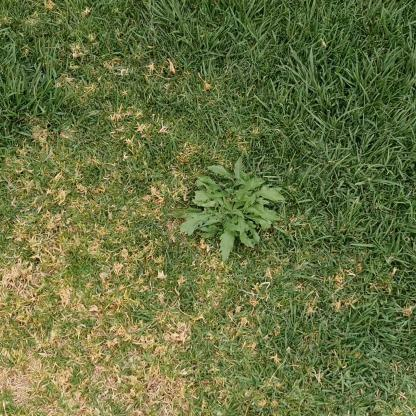Weeds: (170, 157, 285, 262)
